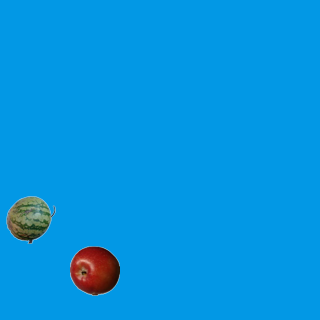Apple Braeburn: (69, 245, 119, 295)
Watermelon: (5, 194, 55, 244)
